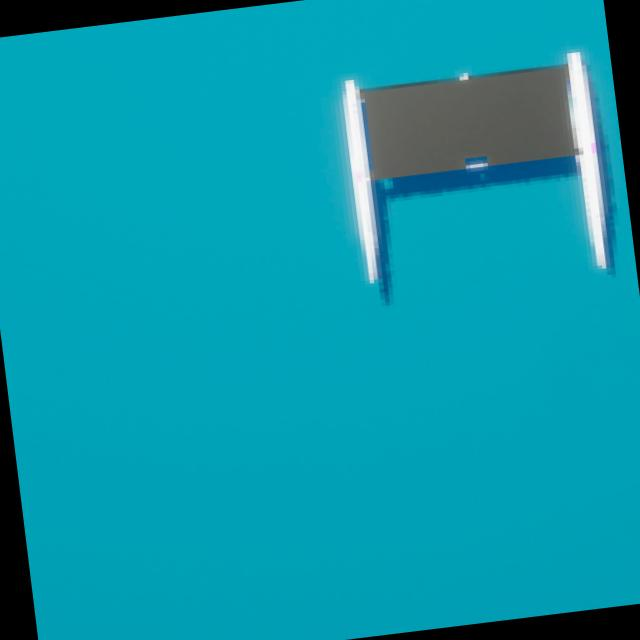boat: (330, 41, 634, 295)
drone: (364, 67, 568, 179)
